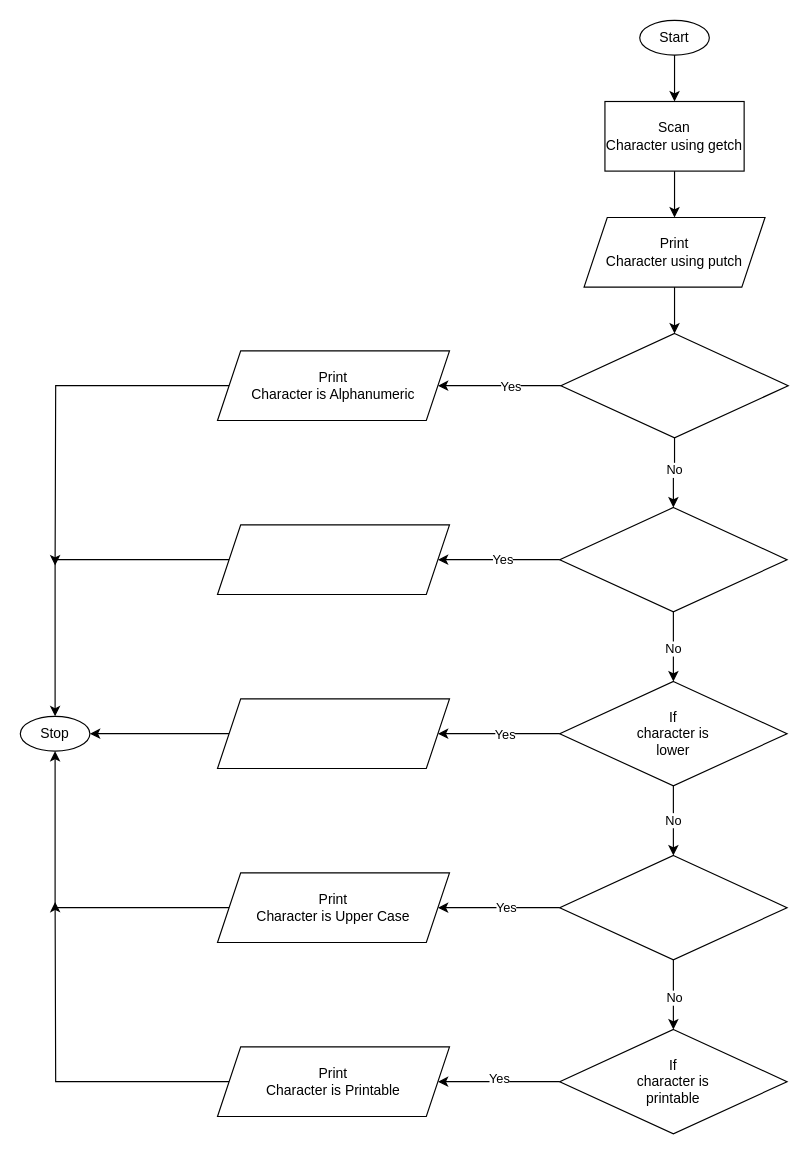
The diagram is 809 pixels wide and 1154 high, and some of its shapes have lost their labels. The centre of each missing label's shape, as x and y in pixels:
If character is alphanumeric: the point at 674,385
If character is digit: the point at 673,559
If character is upper: the point at 673,907
Print Character is Digit: the point at 332,559
Print Character is Lower Case: the point at 332,733
